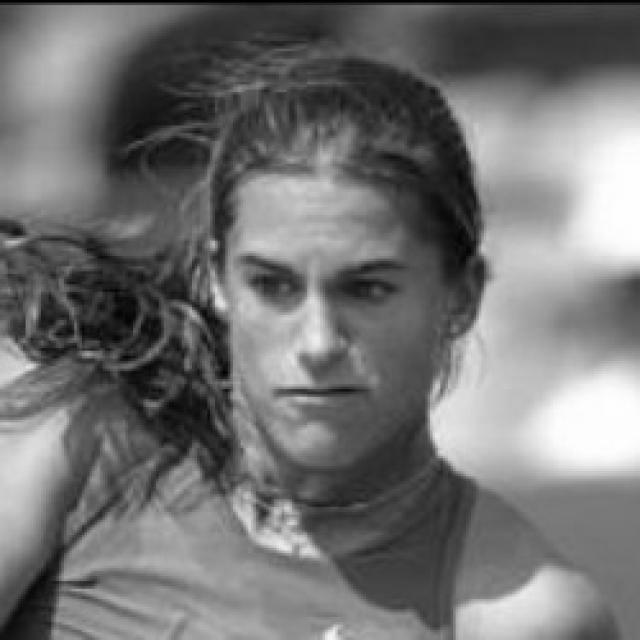real: (214, 152, 446, 481), (241, 242, 399, 314)
